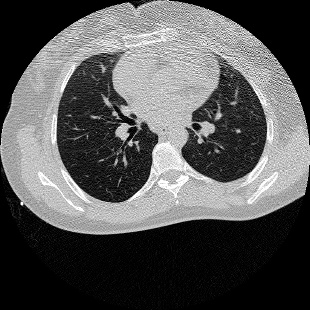PN: (237, 130, 241, 134)
